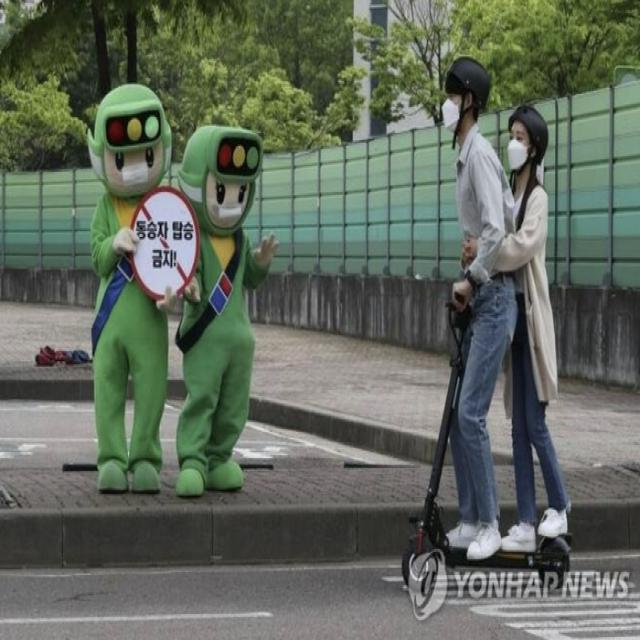helmet: (396, 48, 574, 604)
